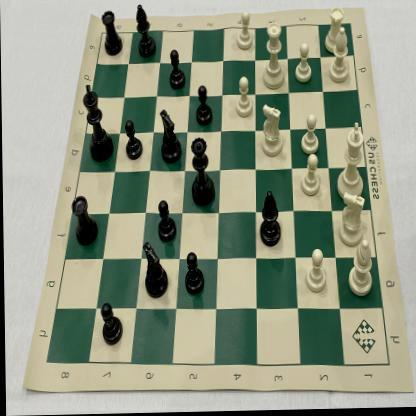black-bishop: (256, 191, 282, 252), (134, 4, 158, 62)
black-king: (80, 80, 114, 162)
black-knight: (140, 235, 168, 304), (158, 107, 184, 167)
black-pawn: (98, 301, 124, 348), (182, 250, 206, 300), (155, 196, 177, 244), (166, 47, 188, 94), (122, 119, 144, 163), (194, 83, 214, 128)
black-queen: (188, 132, 216, 210)
black-rook: (69, 192, 98, 254), (100, 8, 124, 60)
white-bishop: (344, 241, 376, 301), (326, 25, 352, 87)
white-king: (335, 120, 367, 206)
white-knight: (338, 192, 364, 250), (260, 104, 284, 160)
white-pawn: (303, 247, 330, 296), (297, 154, 322, 200), (298, 113, 320, 158), (233, 77, 255, 121), (234, 8, 255, 54), (293, 41, 314, 86)
white-queen: (260, 20, 288, 93)
white-rook: (323, 5, 348, 58)
